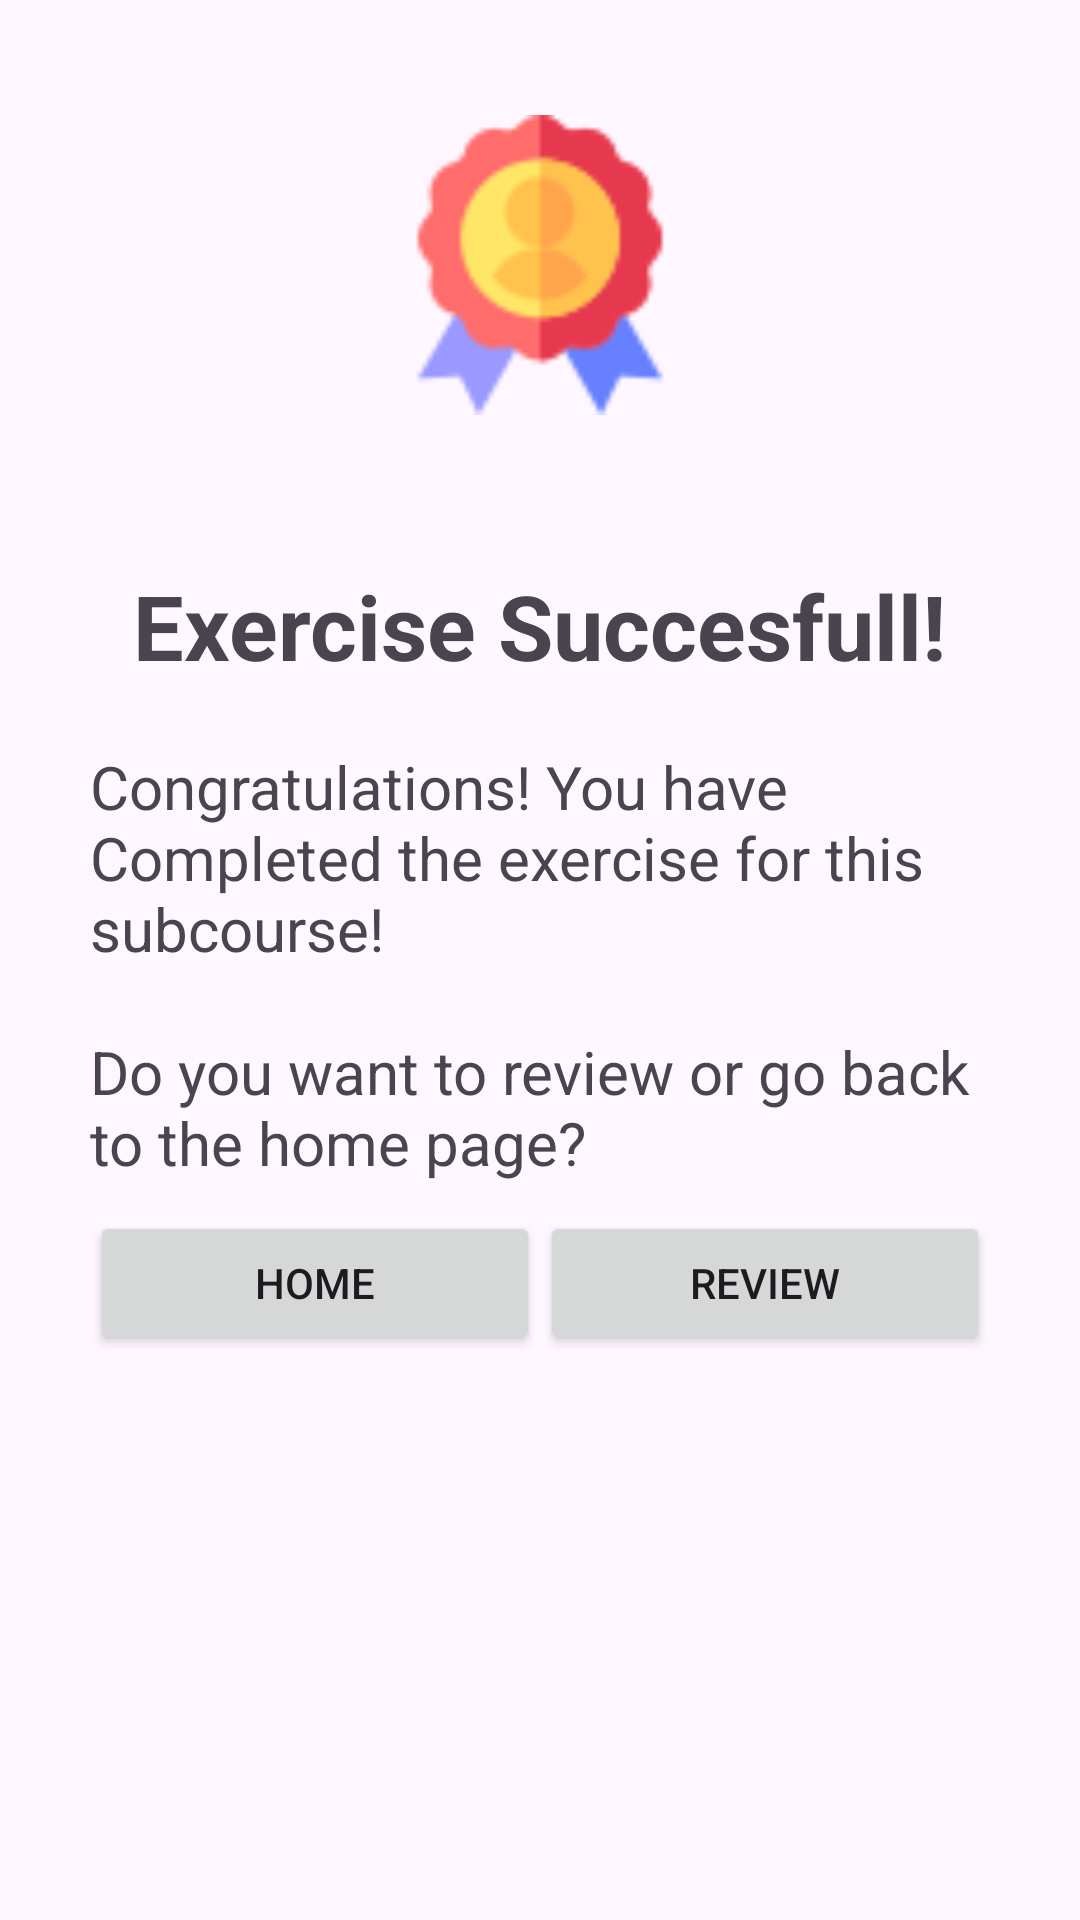

Locate icon controls on the screen. Image size 1080px x 1920px, boxes as [x1,y1,x2,y2].
user award: [417,115,664,415]
